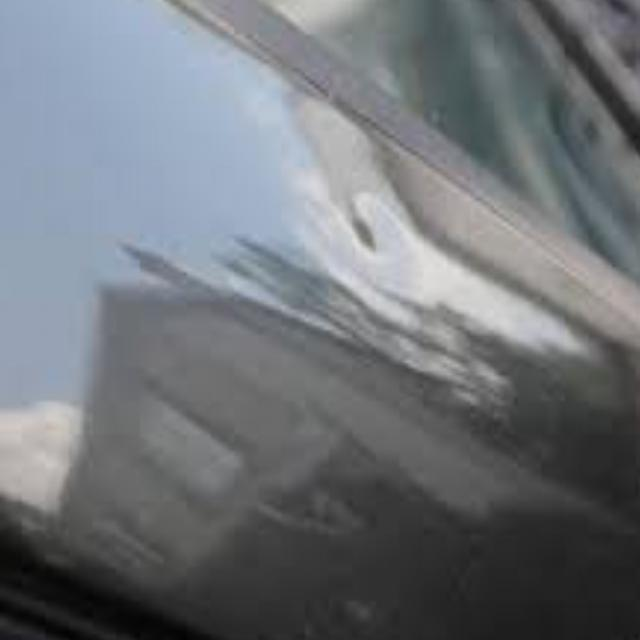dents: (318, 181, 437, 293)
